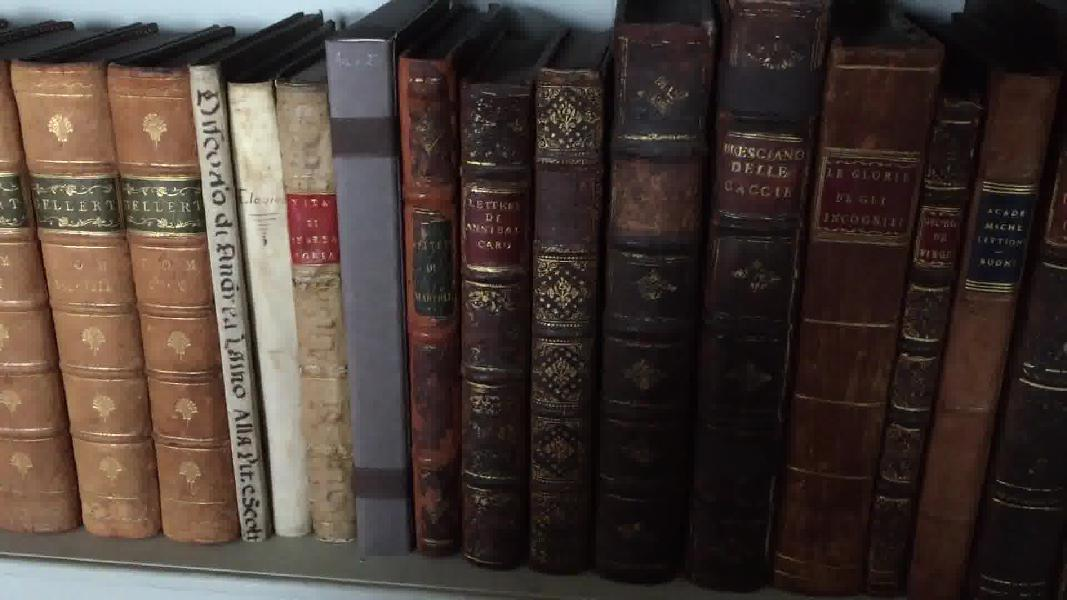Aa6-24: (183, 58, 279, 550)
Aa6-25: (227, 71, 320, 550)
Aa6-26: (267, 63, 362, 543)
Aa6-27: (315, 32, 428, 554)
Aa6-28: (383, 52, 473, 570)
Aa6-29: (450, 66, 533, 578)
Aa6-30: (520, 52, 598, 584)
Aa6-31: (600, 9, 712, 589)
Aa6-32: (692, 11, 819, 594)
Aa6-33: (763, 35, 934, 600)
Aa6-34: (867, 78, 993, 600)
Aa6-35: (901, 59, 1061, 600)
